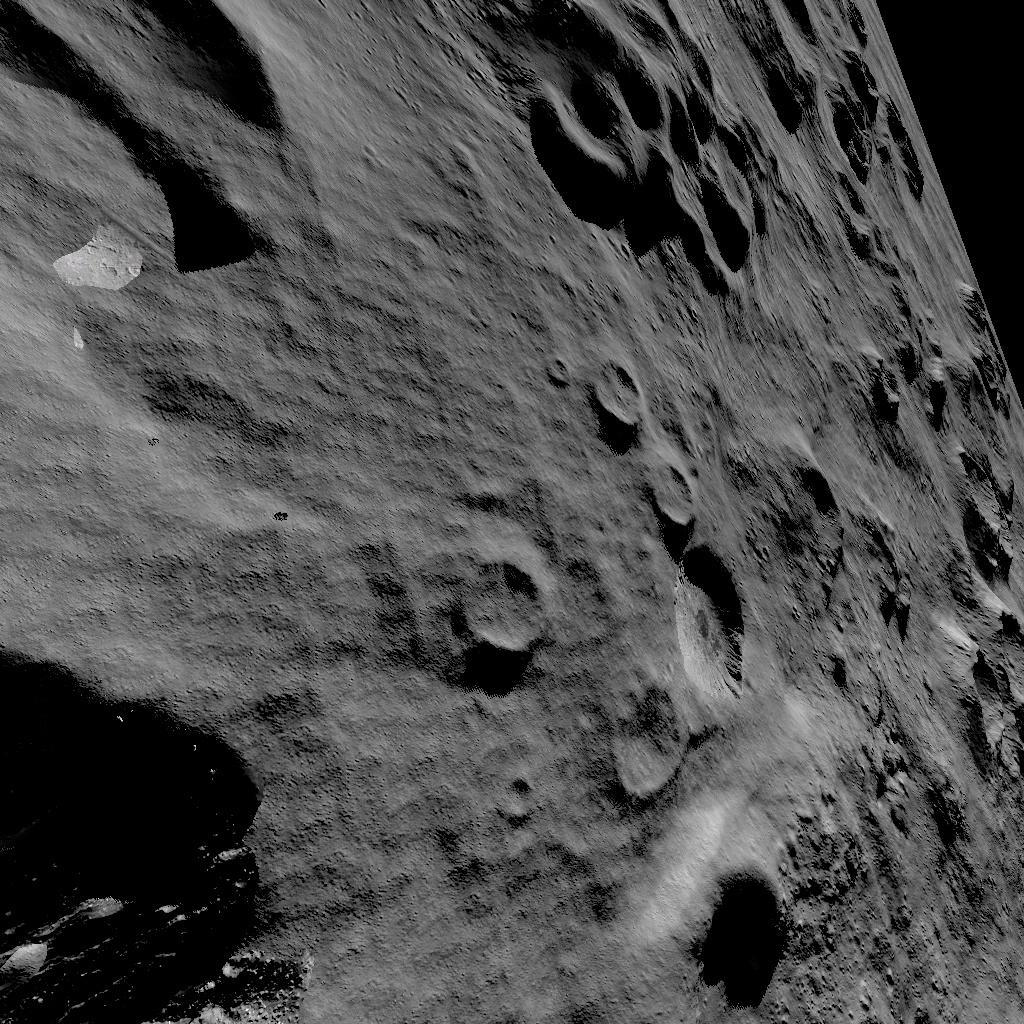Crater: (3, 613, 387, 1024), (1, 0, 355, 321), (520, 0, 914, 286), (620, 543, 768, 822), (957, 450, 1024, 786), (699, 868, 839, 1022), (875, 298, 1024, 436), (459, 543, 557, 673), (792, 464, 878, 606), (592, 360, 664, 440), (648, 460, 711, 532)
Plan surface: (3, 328, 442, 578), (405, 724, 594, 1024), (364, 0, 494, 315)
